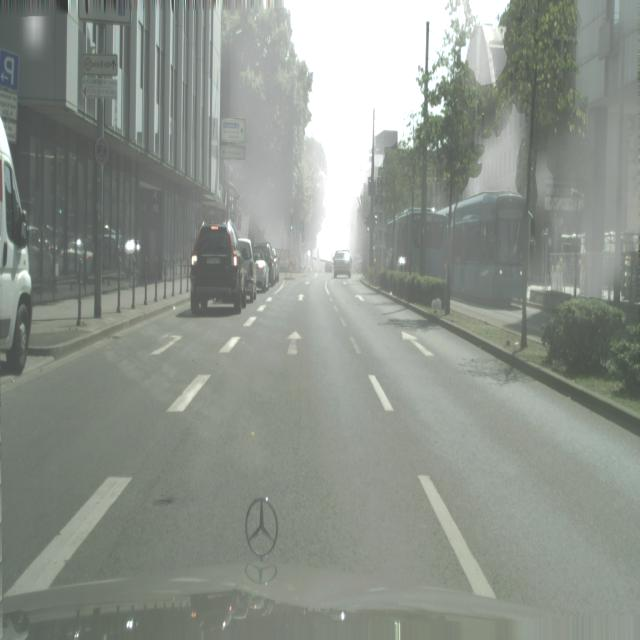motorcycle: (452, 191, 529, 305), (387, 207, 447, 276)
truck: (0, 115, 34, 375), (190, 221, 248, 316), (237, 238, 257, 301), (255, 242, 278, 286), (254, 248, 269, 292), (333, 249, 352, 279)
